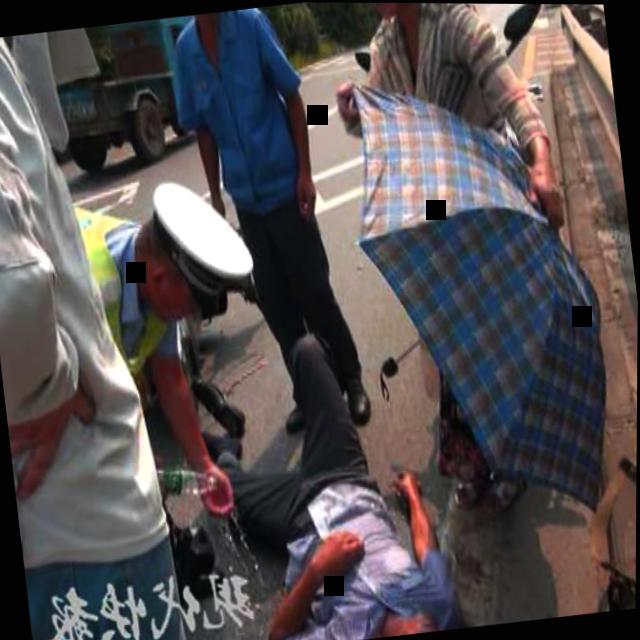Fall-Detected: (189, 306, 476, 640)
